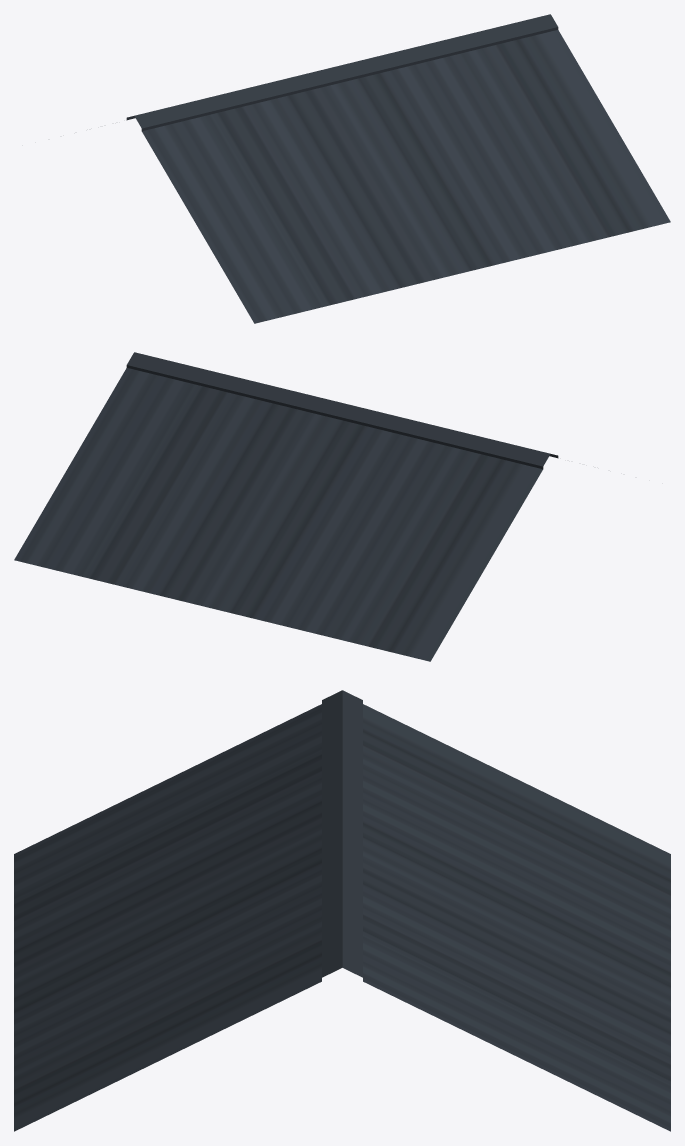
The model's file is SM_Bld_House_Roof_Angled_Cap_01.fbx.
3 views of the same model, one above another, from view 1: azimuth 30°, elevation 25°; view 2: azimuth 150°, elevation 25°; view 3: azimuth 270°, elevation 25° (orthographic). The views are drawn at different scales.
Parts seen in each view (by area): view 1: SM_Bld_House_Roof_Angled_Cap_01; view 2: SM_Bld_House_Roof_Angled_Cap_01; view 3: SM_Bld_House_Roof_Angled_Cap_01.
Part boxes in pixels (box(x1,y1,x2,y2)): SM_Bld_House_Roof_Angled_Cap_01: box(126, 14, 670, 323); SM_Bld_House_Roof_Angled_Cap_01: box(14, 352, 558, 661); SM_Bld_House_Roof_Angled_Cap_01: box(14, 690, 670, 1131).
Bounding box in the file's own units: 250 × 68.86 × 250.
